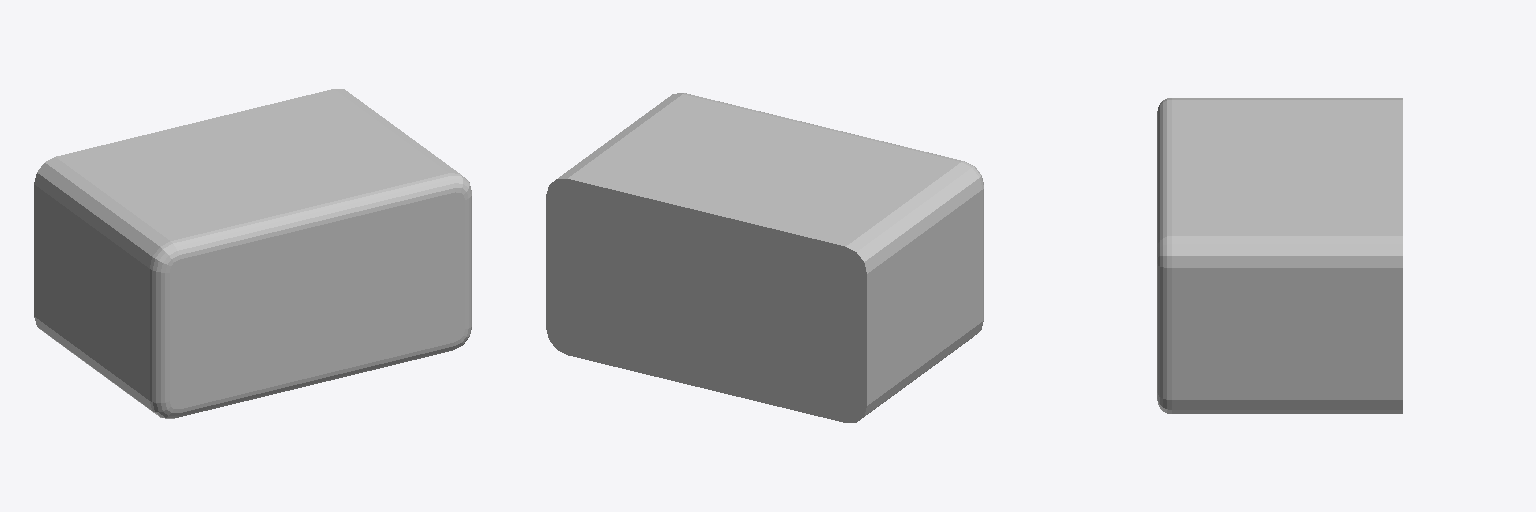
The model's file is 2_Big_Rect_Wall.obj.
3 views of the same model, side by side, from view 1: azimuth 30°, elevation 25°; view 2: azimuth 150°, elevation 25°; view 3: azimuth 270°, elevation 25° (orthographic).
Parts seen in each view (by area): view 1: Big_Rect_Wall_Plane.012; view 2: Big_Rect_Wall_Plane.012; view 3: Big_Rect_Wall_Plane.012.
Part boxes in pixels (x1,y1,x2,y2): Big_Rect_Wall_Plane.012: (34,89,471,418); Big_Rect_Wall_Plane.012: (546,93,983,422); Big_Rect_Wall_Plane.012: (1157,98,1402,413).
Bounding box in the file's own units: 7.55 × 3.97 × 5.